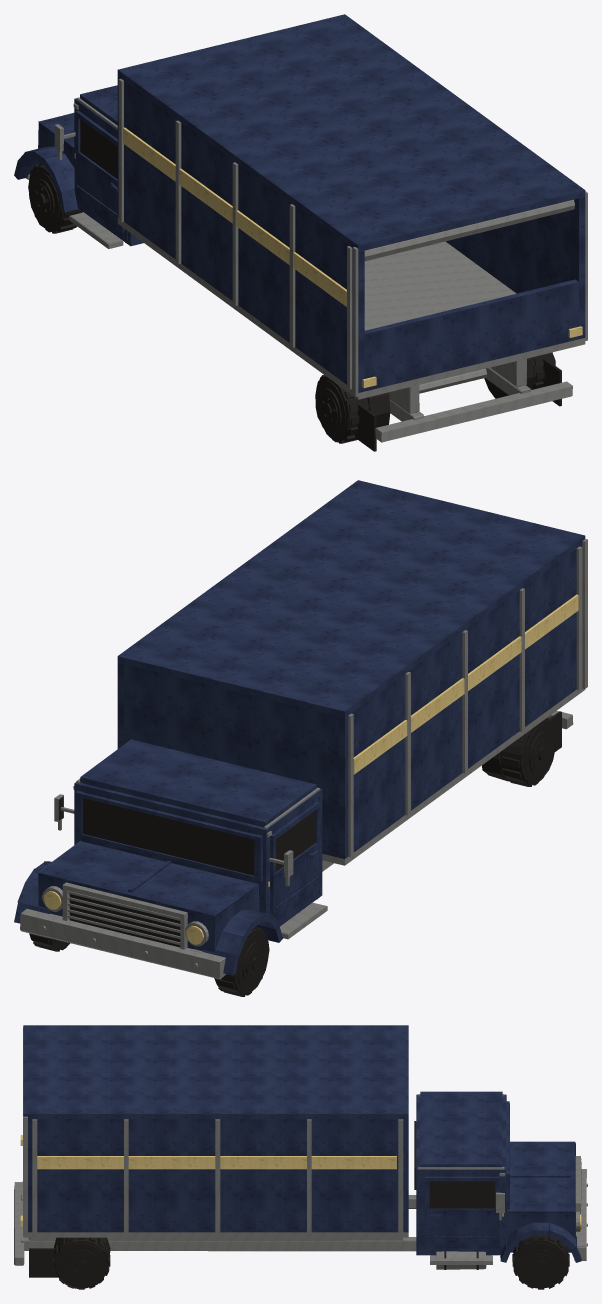
Rendered from midnight_express.glb.
The picture shows the model from 3 angles, top to bottom: view 1: azimuth 30°, elevation 25°; view 2: azimuth 150°, elevation 25°; view 3: azimuth 270°, elevation 25°; orthographic projection. The views are drawn at different scales.
Parts seen in each view (by area): view 1: MidnightExpress, Tailgate, Wheel_L2, Door_L, Wheel_L1, Glass_L, Wheel_R2; view 2: MidnightExpress, Door_L, Wheel_L2, Wheel_L1, Glass_L; view 3: MidnightExpress, Door_R, Wheel_R2, Wheel_R1, Glass_R.
Boxes of the visible parts, bbox=[...] form: MidnightExpress: bbox=[14, 14, 587, 451]; Tailgate: bbox=[364, 279, 578, 391]; Wheel_L2: bbox=[315, 375, 390, 443]; Door_L: bbox=[75, 110, 124, 232]; Wheel_L1: bbox=[28, 163, 82, 233]; Glass_L: bbox=[80, 119, 117, 178]; Wheel_R2: bbox=[484, 352, 555, 398]; MidnightExpress: bbox=[14, 480, 587, 979]; Door_L: bbox=[270, 802, 319, 920]; Wheel_L2: bbox=[482, 718, 555, 786]; Wheel_L1: bbox=[214, 926, 269, 996]; Glass_L: bbox=[276, 811, 315, 871]; MidnightExpress: bbox=[14, 1025, 587, 1277]; Door_R: bbox=[425, 1176, 499, 1248]; Wheel_R2: bbox=[53, 1237, 110, 1289]; Wheel_R1: bbox=[512, 1235, 569, 1289]; Glass_R: bbox=[425, 1181, 495, 1208].
Size of the model in its own units: 3.11 by 2.86 by 8.26.
Materials: 4 (3 with a texture image).
